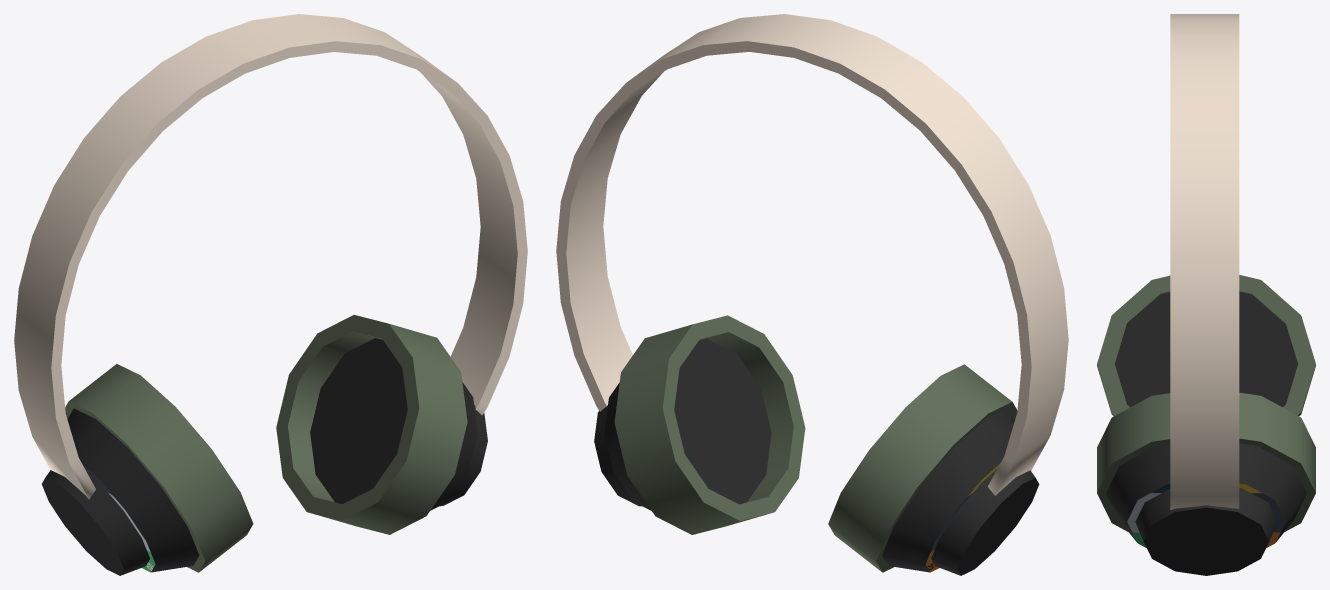
File: FoneOuvido.fbx
3 renders of one model, left to right at view 1: azimuth 30°, elevation 25°; view 2: azimuth 150°, elevation 25°; view 3: azimuth 270°, elevation 25°, orthographic. The views are drawn at different scales.
Parts seen in each view (by area): view 1: FoneOuvido; view 2: FoneOuvido; view 3: FoneOuvido.
Part boxes in pixels (x1,y1,x2,y2): FoneOuvido: [14, 14, 527, 575]; FoneOuvido: [556, 14, 1068, 575]; FoneOuvido: [1097, 14, 1315, 575].
Size of the model in its own units: 44.35 by 45.67 by 18.98.
Materials: 1 (1 with a texture image).
